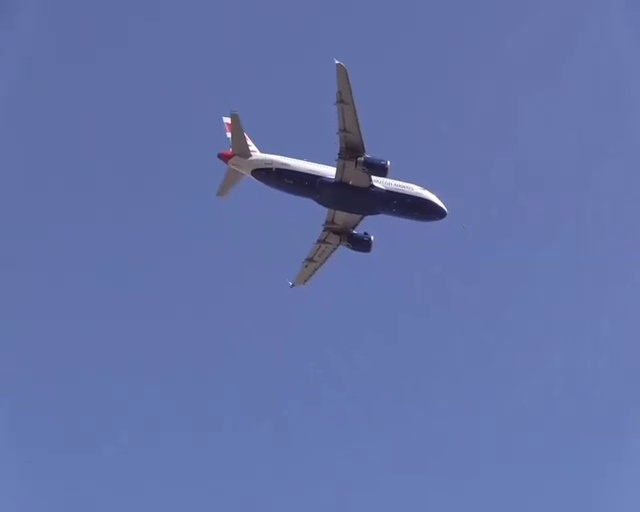AIRPLANE: (213, 57, 446, 293)
